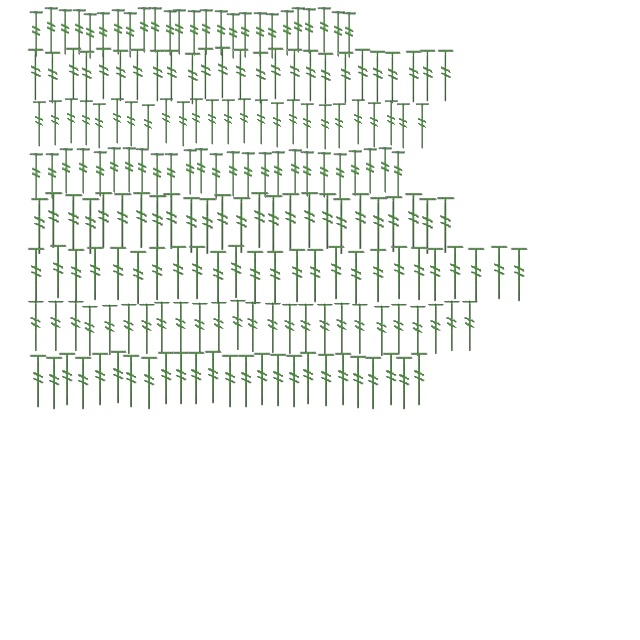fan: (29, 196, 51, 256), (43, 190, 65, 250), (63, 192, 85, 252), (80, 196, 102, 256), (93, 190, 115, 250), (112, 191, 134, 251), (131, 190, 153, 250), (147, 193, 169, 253), (161, 191, 183, 251), (181, 195, 203, 255), (197, 196, 219, 256), (212, 192, 234, 252), (231, 195, 253, 255), (249, 190, 271, 250), (263, 193, 285, 253), (280, 191, 302, 251), (299, 190, 321, 250), (317, 191, 339, 251), (331, 196, 353, 256), (350, 191, 372, 251), (368, 195, 390, 255), (383, 194, 405, 254), (403, 191, 425, 251), (417, 196, 439, 256), (435, 195, 457, 255), (26, 246, 48, 304), (168, 244, 190, 302), (326, 244, 348, 302), (466, 246, 488, 304), (48, 244, 70, 300), (66, 248, 88, 304), (108, 246, 130, 302), (128, 250, 150, 306), (208, 250, 230, 306), (226, 244, 248, 300), (346, 250, 368, 306), (368, 248, 390, 304), (28, 353, 50, 409), (44, 355, 66, 411), (90, 351, 112, 407), (108, 349, 130, 405), (156, 350, 178, 406), (186, 350, 208, 406), (220, 353, 242, 409), (236, 353, 258, 409), (252, 351, 274, 407), (268, 352, 290, 408), (284, 353, 306, 409), (298, 350, 320, 406), (316, 352, 338, 408), (348, 354, 370, 410), (394, 355, 416, 411), (188, 244, 208, 302), (390, 244, 410, 302), (426, 246, 446, 304), (446, 244, 466, 302), (490, 244, 510, 302), (510, 246, 530, 304), (43, 50, 63, 106), (64, 46, 84, 102), (94, 46, 114, 102), (111, 48, 131, 104), (148, 48, 168, 104), (162, 48, 182, 104), (196, 46, 216, 102), (251, 50, 271, 106), (266, 46, 286, 102), (301, 48, 321, 104), (336, 50, 356, 106), (383, 50, 403, 106), (418, 48, 438, 104), (436, 48, 456, 104), (86, 246, 106, 302), (148, 246, 168, 302), (246, 250, 266, 306), (266, 250, 286, 306), (288, 248, 308, 304), (306, 248, 326, 304), (410, 246, 430, 302), (26, 298, 46, 354), (46, 298, 66, 354), (66, 298, 86, 354), (80, 303, 100, 359), (100, 302, 120, 358), (119, 301, 139, 357), (137, 301, 157, 357), (152, 299, 172, 355), (171, 299, 191, 355), (190, 300, 210, 356), (209, 299, 229, 355), (228, 297, 248, 353), (243, 299, 263, 355), (263, 300, 283, 356), (280, 301, 300, 357), (296, 301, 316, 357), (315, 301, 335, 357), (332, 300, 352, 356), (350, 301, 370, 357), (372, 303, 392, 359), (389, 301, 409, 357), (408, 303, 428, 359), (426, 301, 446, 357), (442, 298, 462, 354), (460, 298, 480, 354), (58, 351, 78, 407), (74, 355, 94, 411), (122, 353, 142, 409), (140, 355, 160, 411), (172, 350, 192, 406), (204, 349, 224, 405), (334, 351, 354, 407), (364, 355, 384, 411), (382, 351, 402, 407), (410, 351, 430, 407), (26, 48, 46, 102), (77, 50, 97, 104), (128, 48, 148, 102), (183, 52, 203, 106), (213, 46, 233, 100), (231, 48, 251, 102), (285, 48, 305, 102), (316, 52, 336, 106), (353, 48, 373, 102), (368, 50, 388, 104), (404, 50, 424, 104), (78, 98, 96, 148), (140, 102, 158, 152), (158, 96, 176, 146), (188, 96, 206, 146), (204, 97, 222, 147), (220, 97, 238, 147), (236, 96, 254, 146), (350, 97, 368, 147), (366, 100, 384, 150), (414, 101, 432, 151), (32, 99, 48, 149), (48, 98, 64, 148), (64, 96, 80, 146), (92, 101, 108, 151), (110, 96, 126, 146), (124, 99, 140, 149), (176, 99, 192, 149), (254, 97, 270, 147), (270, 100, 286, 150), (286, 97, 302, 147), (300, 101, 316, 151), (318, 102, 334, 152), (332, 101, 348, 151), (384, 98, 400, 148), (396, 101, 412, 151), (28, 10, 44, 58), (43, 6, 59, 54), (57, 8, 73, 56), (71, 8, 87, 56), (82, 12, 98, 60), (95, 11, 111, 59), (110, 8, 126, 56), (122, 11, 138, 59), (136, 6, 152, 54), (147, 6, 163, 54), (162, 9, 178, 57), (171, 8, 187, 56), (186, 9, 202, 57), (198, 8, 214, 56), (213, 9, 229, 57), (225, 12, 241, 60), (237, 11, 253, 59), (252, 11, 268, 59), (264, 12, 280, 60), (279, 9, 295, 57), (290, 6, 306, 54), (301, 7, 317, 55), (316, 6, 332, 54), (330, 10, 346, 58), (341, 11, 357, 59), (28, 152, 44, 200), (44, 152, 60, 200), (58, 147, 74, 195), (75, 147, 91, 195), (92, 150, 108, 198), (106, 146, 122, 194), (121, 146, 137, 194), (134, 147, 150, 195), (149, 152, 165, 200), (163, 152, 179, 200), (182, 148, 198, 196), (193, 147, 209, 195), (208, 152, 224, 200), (225, 150, 241, 198), (240, 151, 256, 199), (257, 151, 273, 199), (270, 150, 286, 198), (287, 148, 303, 196), (299, 150, 315, 198), (316, 151, 332, 199), (332, 152, 348, 200), (347, 149, 363, 197), (362, 147, 378, 195), (377, 146, 393, 194), (390, 150, 406, 198)
